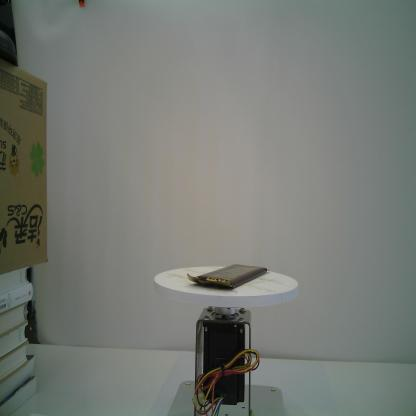Chocolate: (186, 262, 271, 290)
